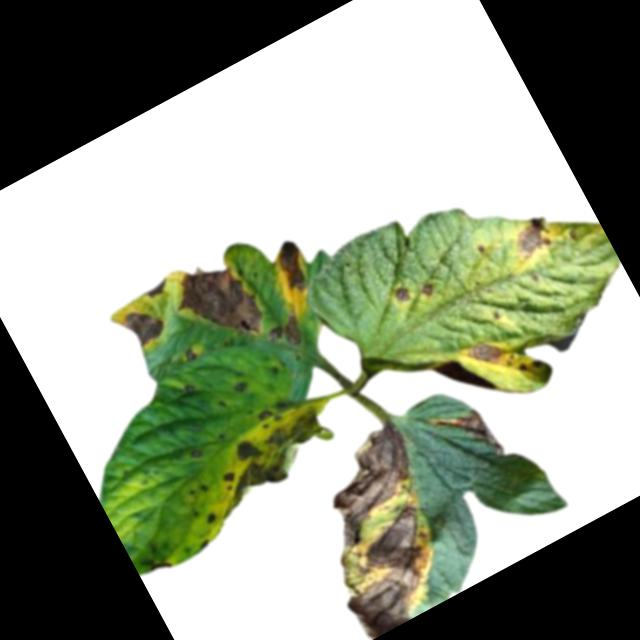Early_blight: (280, 419, 482, 640), (194, 396, 342, 515), (164, 247, 273, 361), (425, 393, 508, 480), (266, 237, 320, 300), (119, 300, 173, 354), (508, 215, 555, 263), (264, 310, 310, 356), (465, 332, 510, 377), (516, 353, 547, 380), (143, 277, 173, 302), (390, 284, 414, 308), (148, 556, 172, 577), (229, 377, 253, 398), (420, 280, 440, 300), (183, 346, 201, 365), (203, 510, 220, 528), (256, 409, 273, 423), (188, 447, 202, 460), (185, 386, 196, 399)
